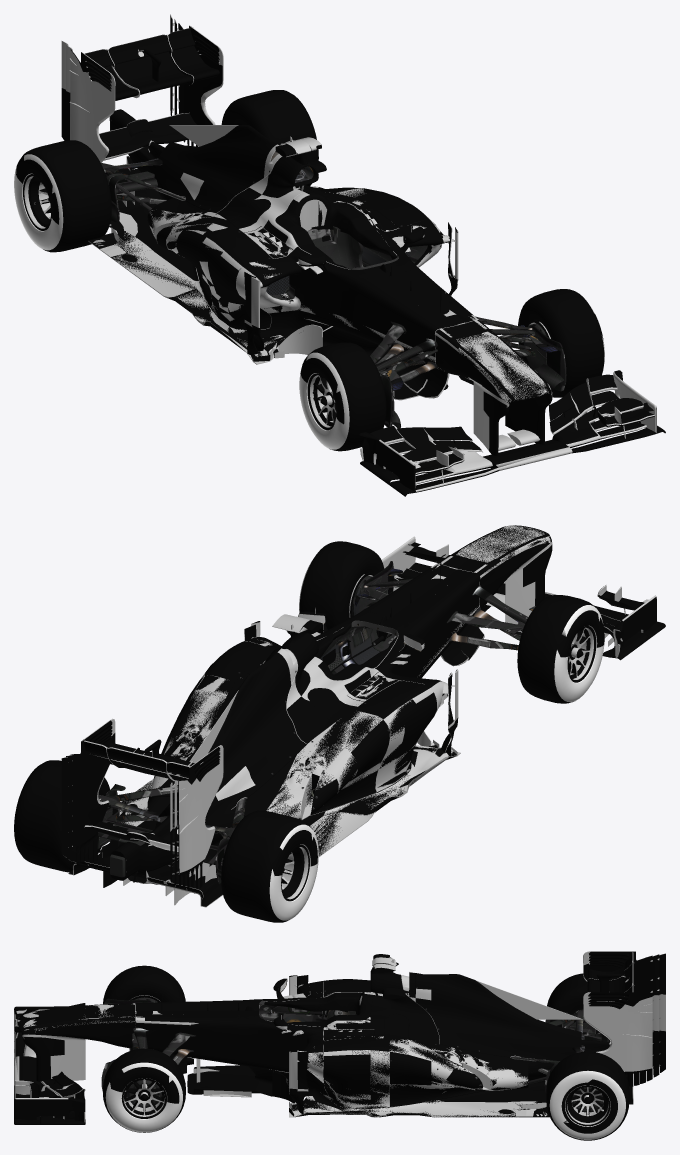
Rendered from FerrariF12013.fbx.
3 renders of one model, top to bottom at view 1: azimuth 30°, elevation 25°; view 2: azimuth 150°, elevation 25°; view 3: azimuth 270°, elevation 25°, orthographic. The views are drawn at different scales.
Parts seen in each view (by area): view 1: x1_safetycell, x0_safetycell, x1_sidepod_fr, x1_tyre_br, x1_topcanopy_bm, x1_tyre_fr, x0_nosecone, x0_frontspoiler_fm, x1_tyre_fl, x1_rearwing_br, x1_rearwing_top, x1_tyre_bl (+23 smaller); view 2: x1_safetycell, x1_sidepod_fr, x1_topcanopy_bm, x1_tyre_br, x1_tyre_fr, x0_safetycell, x1_sidepod_fl, x1_rearwing_bl, x1_rearwing_br, x1_tyre_bl, x1_tyre_fl, x0_nosecone (+21 smaller); view 3: x1_safetycell, x1_sidepod_fl, x1_topcanopy_bm, x0_safetycell, x1_rearwing_bl, x1_tyre_bl, x1_tyre_fl, x0_nosecone, x1_rearwing_br, x1_tyre_fr, x0_frontfin_fl, x0_sidepod_fl (+21 smaller).
Part boxes in pixels (x1,y1,x2,y2): x1_safetycell: [89, 109, 475, 400]; x0_safetycell: [236, 195, 478, 361]; x1_sidepod_fr: [88, 197, 319, 360]; x1_tyre_br: [14, 140, 111, 252]; x1_topcanopy_bm: [154, 125, 282, 213]; x1_tyre_fr: [299, 342, 386, 451]; x0_nosecone: [435, 320, 551, 403]; x0_frontspoiler_fm: [386, 407, 655, 492]; x1_tyre_fl: [518, 289, 604, 397]; x1_rearwing_br: [61, 41, 115, 162]; x1_rearwing_top: [89, 45, 219, 100]; x1_tyre_bl: [221, 90, 318, 186]; x1_safetycell: [102, 564, 484, 882]; x1_sidepod_fr: [231, 664, 460, 856]; x1_topcanopy_bm: [155, 648, 306, 834]; x1_tyre_br: [221, 810, 318, 922]; x1_tyre_fr: [517, 595, 604, 703]; x0_safetycell: [243, 554, 480, 713]; x1_sidepod_fl: [119, 639, 271, 826]; x1_rearwing_bl: [61, 718, 115, 862]; x1_rearwing_br: [170, 745, 223, 888]; x1_tyre_bl: [14, 760, 109, 872]; x1_tyre_fl: [299, 541, 384, 637]; x0_nosecone: [437, 525, 550, 607]; x1_safetycell: [129, 973, 610, 1117]; x1_sidepod_fl: [286, 1035, 549, 1117]; x1_topcanopy_bm: [401, 972, 582, 1072]; x0_safetycell: [135, 981, 371, 1082]; x1_rearwing_bl: [583, 992, 665, 1086]; x1_tyre_bl: [546, 1051, 629, 1140]; x1_tyre_fl: [103, 1048, 185, 1132]; x0_nosecone: [17, 1003, 135, 1048]; x1_rearwing_br: [583, 951, 665, 1001]; x1_tyre_fr: [103, 965, 185, 1004]; x0_frontfin_fl: [22, 1034, 85, 1082]; x0_sidepod_fl: [323, 1038, 370, 1099].
Bounding box in the file's own units: 1.83 × 1.15 × 5.04.
